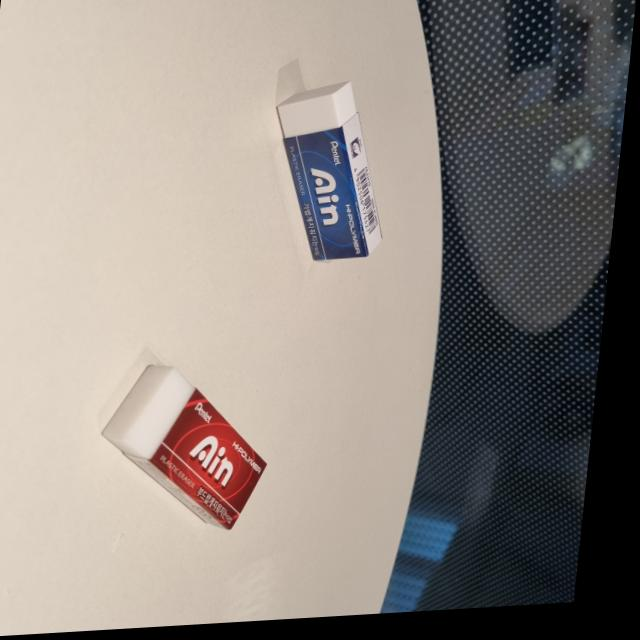blue: (268, 81, 406, 278)
red: (98, 357, 287, 541)
